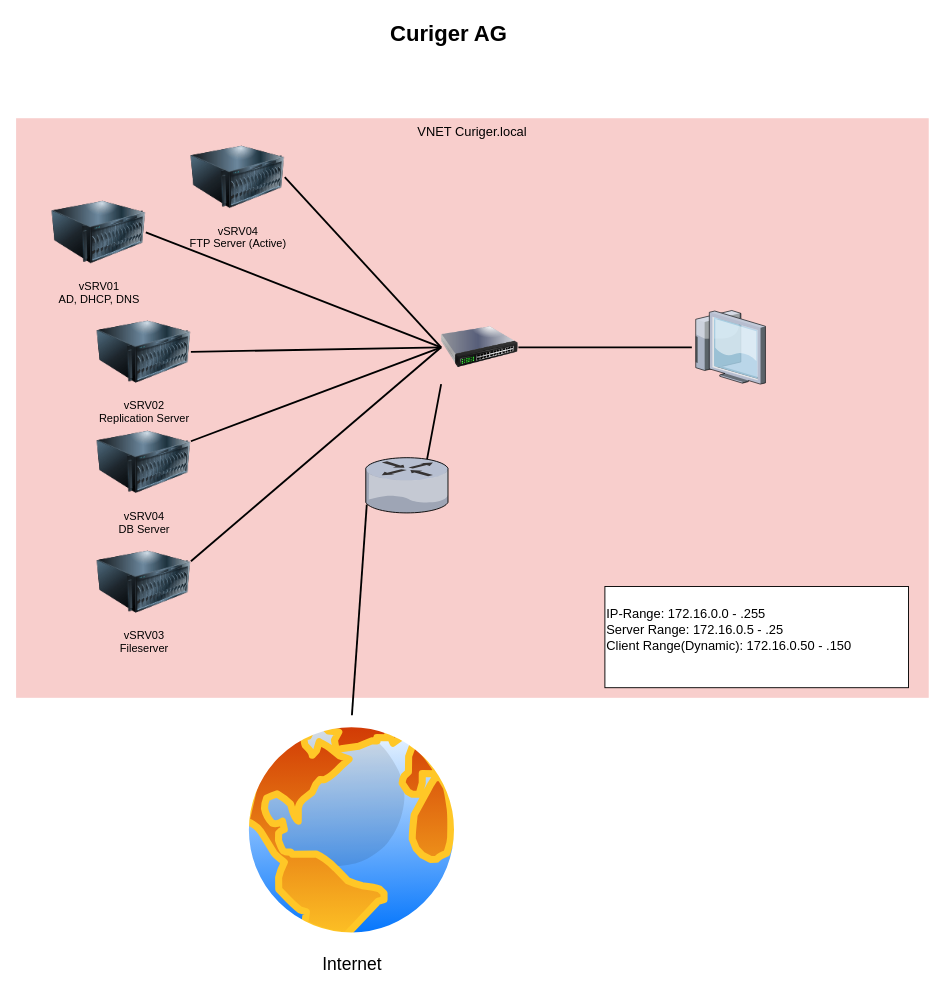
This 944x991 diagram has some shape labels left out. The shapes that lost their labels are listed below. From the top down, each one's centre as x and y in pixels, then its label:
[479,347]: SW01 172.16.0.50 Netgear ProSafe
[728,347]: WS01-WS05
[406,484]: RT01 172.16.0.5 EdgeRouterX
